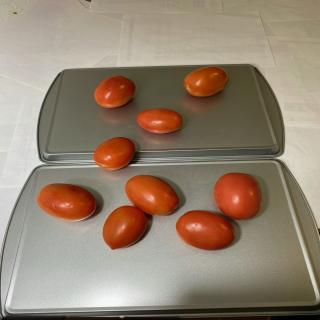Tomato: (175, 210, 236, 251), (214, 172, 262, 220), (37, 183, 96, 222), (125, 174, 179, 216), (102, 205, 148, 250), (183, 66, 229, 97), (94, 75, 136, 108), (94, 137, 136, 170), (136, 108, 183, 134)
